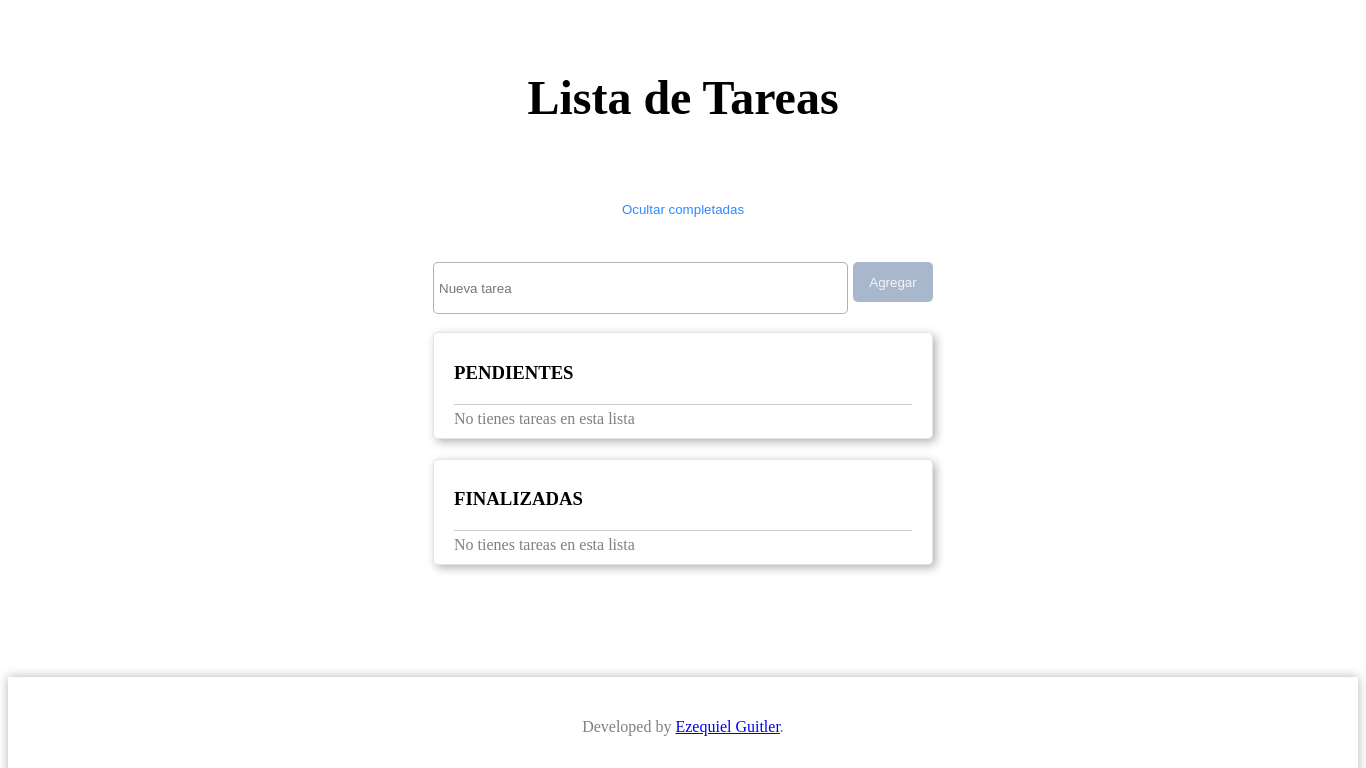
Test case: creating a task this is shown in the pending list
Type "This is a description" into the field with placeholder "Nueva tarea" at (640, 288), box [433,262,848,314]
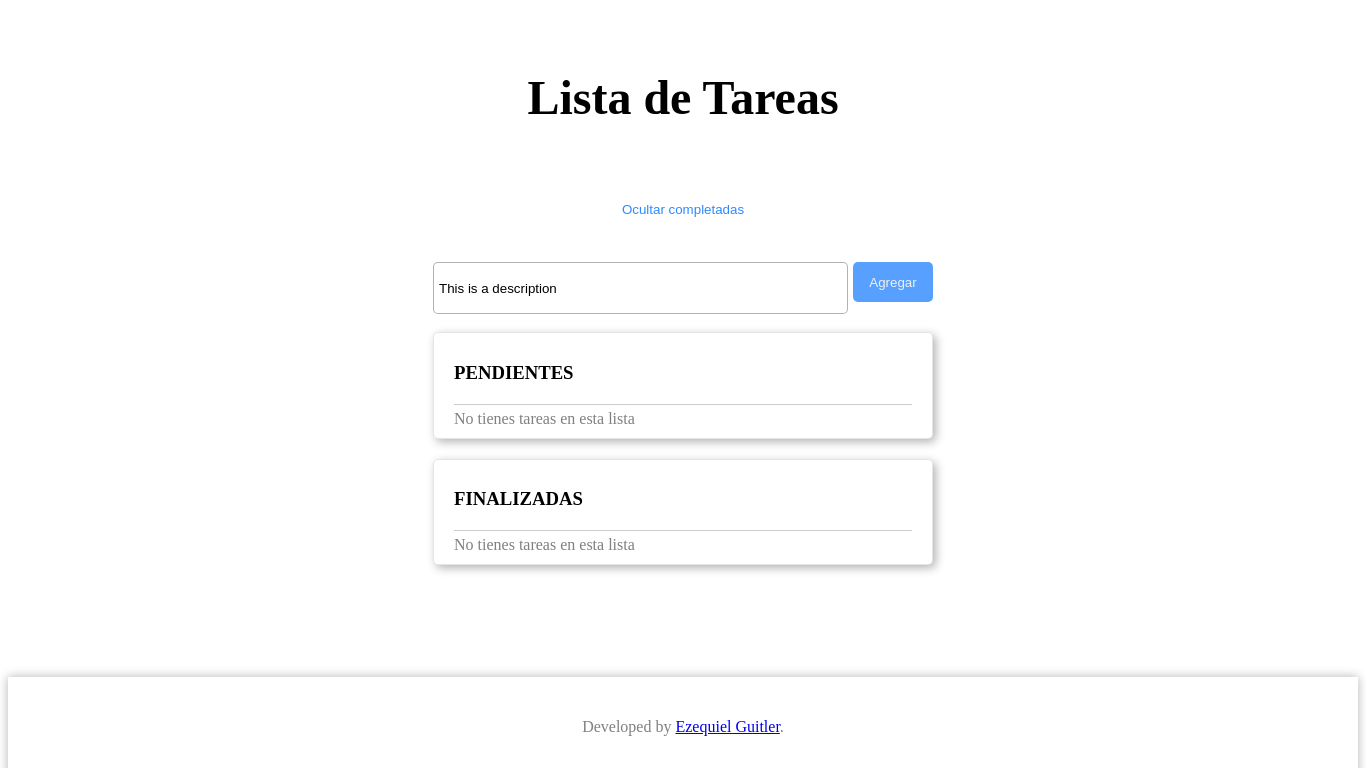
Click the button "Agregar" at (893, 282), box [853,262,933,302]
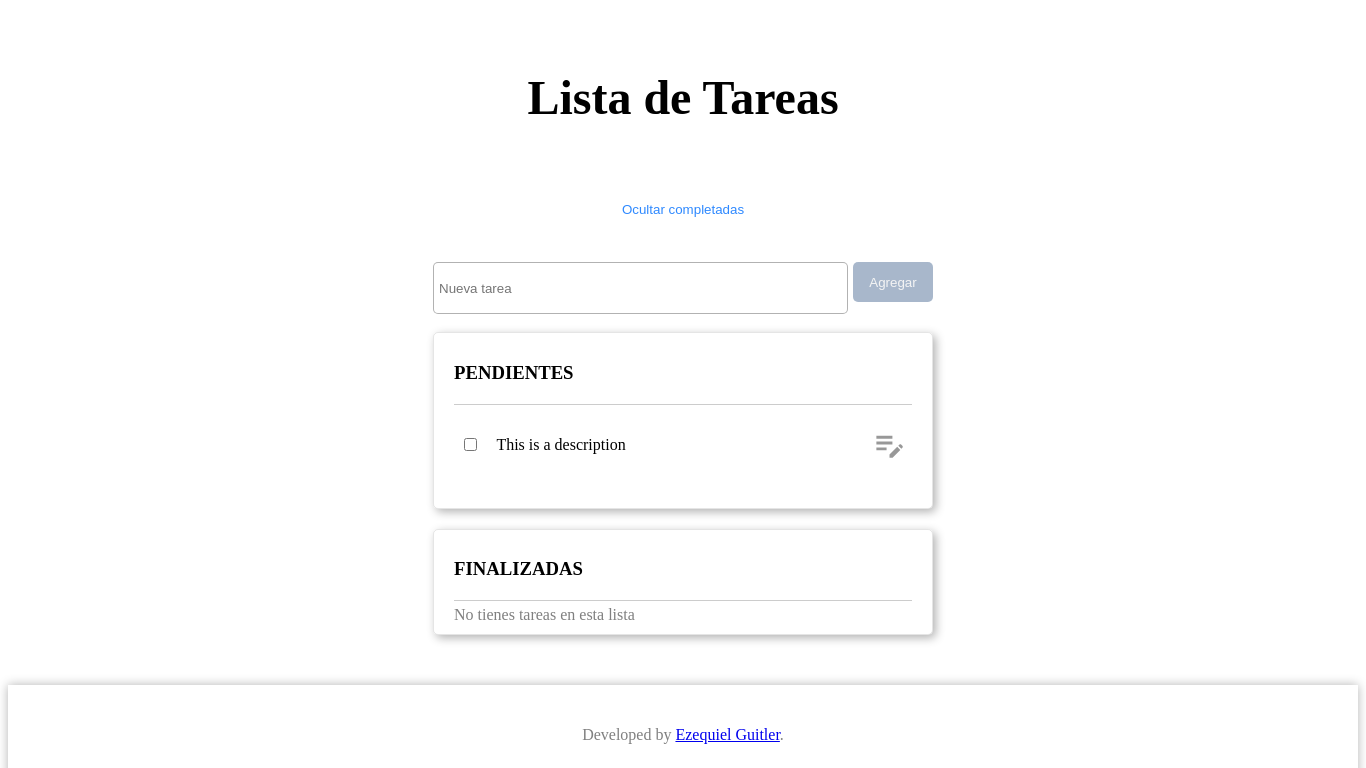
Expected: the number of elements with test id "task" is 1, [463,427,907,462]
